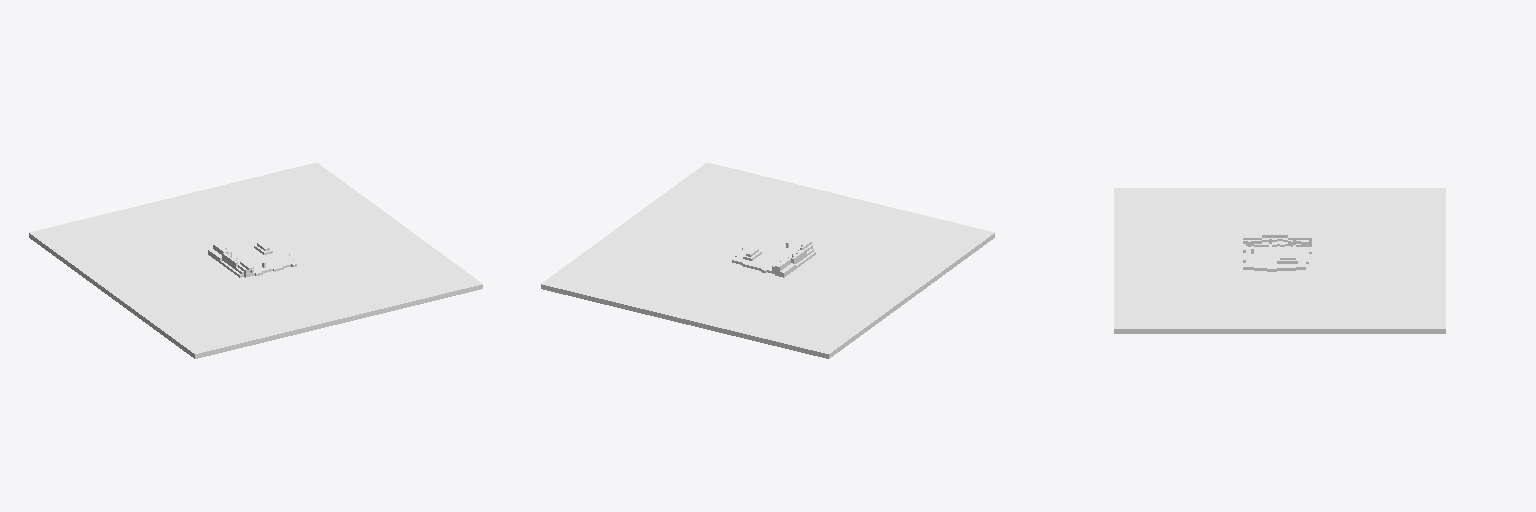
File: island.obj
The picture shows the model from 3 angles: view 1: azimuth 30°, elevation 25°; view 2: azimuth 150°, elevation 25°; view 3: azimuth 270°, elevation 25°; orthographic projection.
Parts seen in each view (by area): view 1: object 1; view 2: object 1; view 3: object 1.
Boxes of the visible parts, <box> form: object 1: <box>29,162,482,358</box>; object 1: <box>541,162,994,358</box>; object 1: <box>1114,188,1445,333</box>.
Bounding box in the file's own units: 12.6 × 0.6 × 12.6.